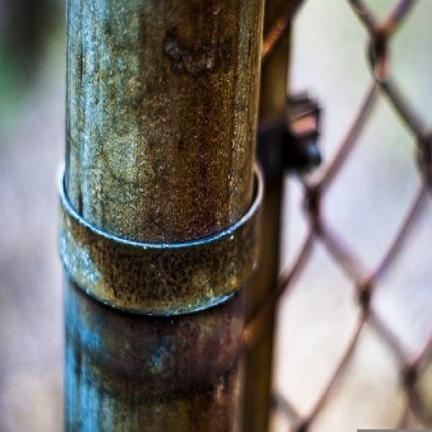karat: (130, 0, 265, 243)
